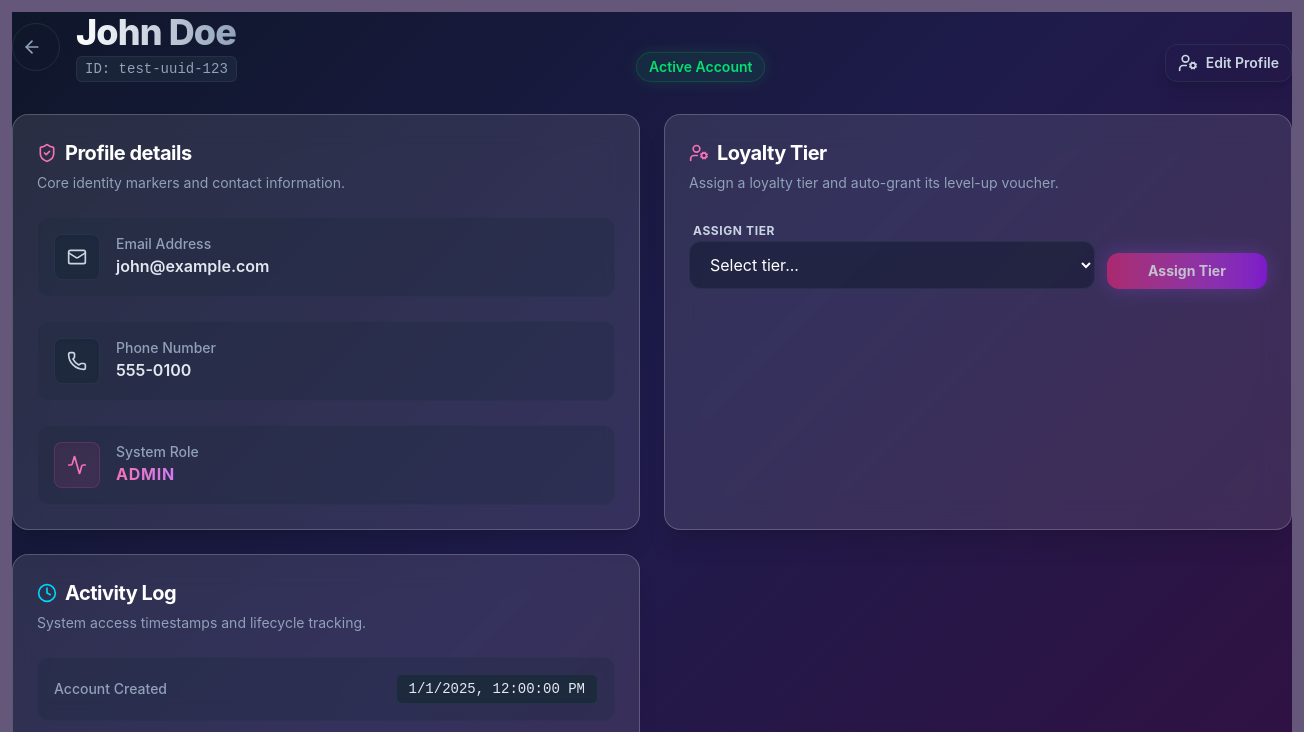
Test: UserDetail component tests › assigns a tier and shows the grant email-style feedback
The image size is (1304, 732).
Select "Gold" in the dropdown labelled "Assign Tier" at (892, 265), box [689,241,1095,289]
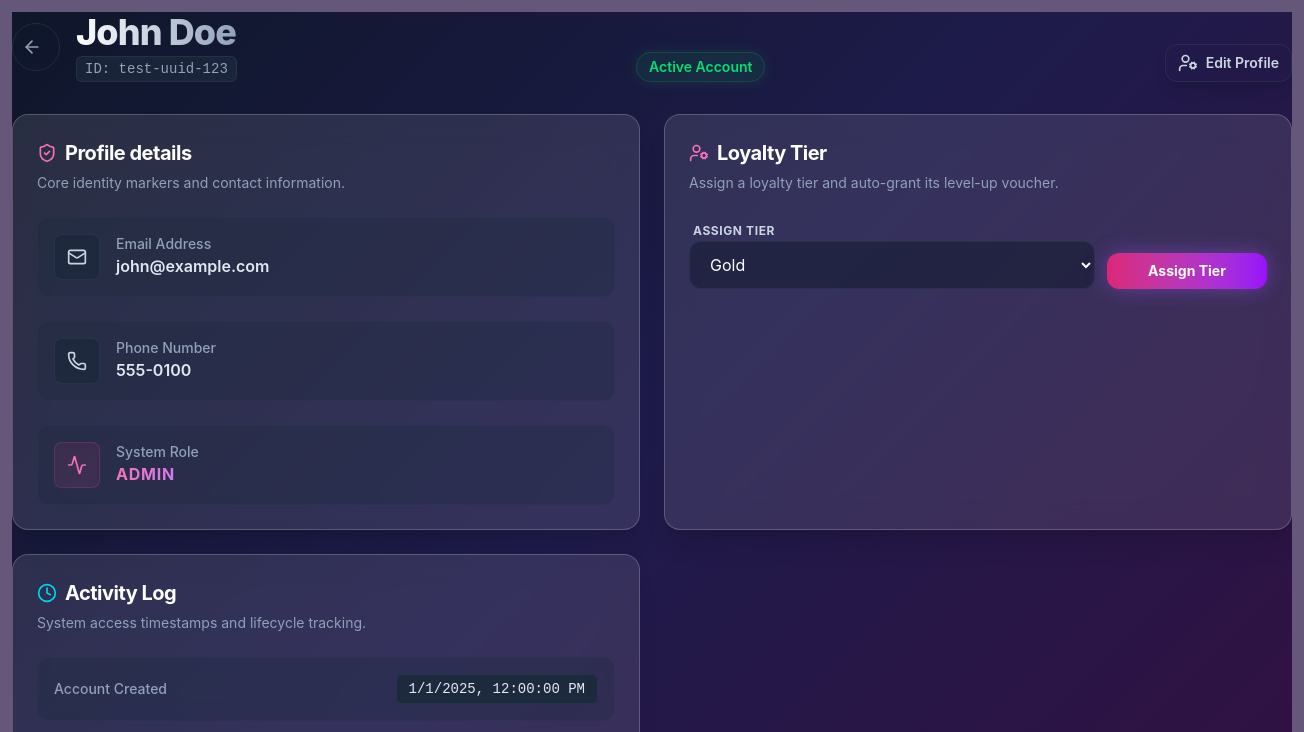
Click the button "Assign Tier" at (1187, 271), box [1107,253,1267,289]
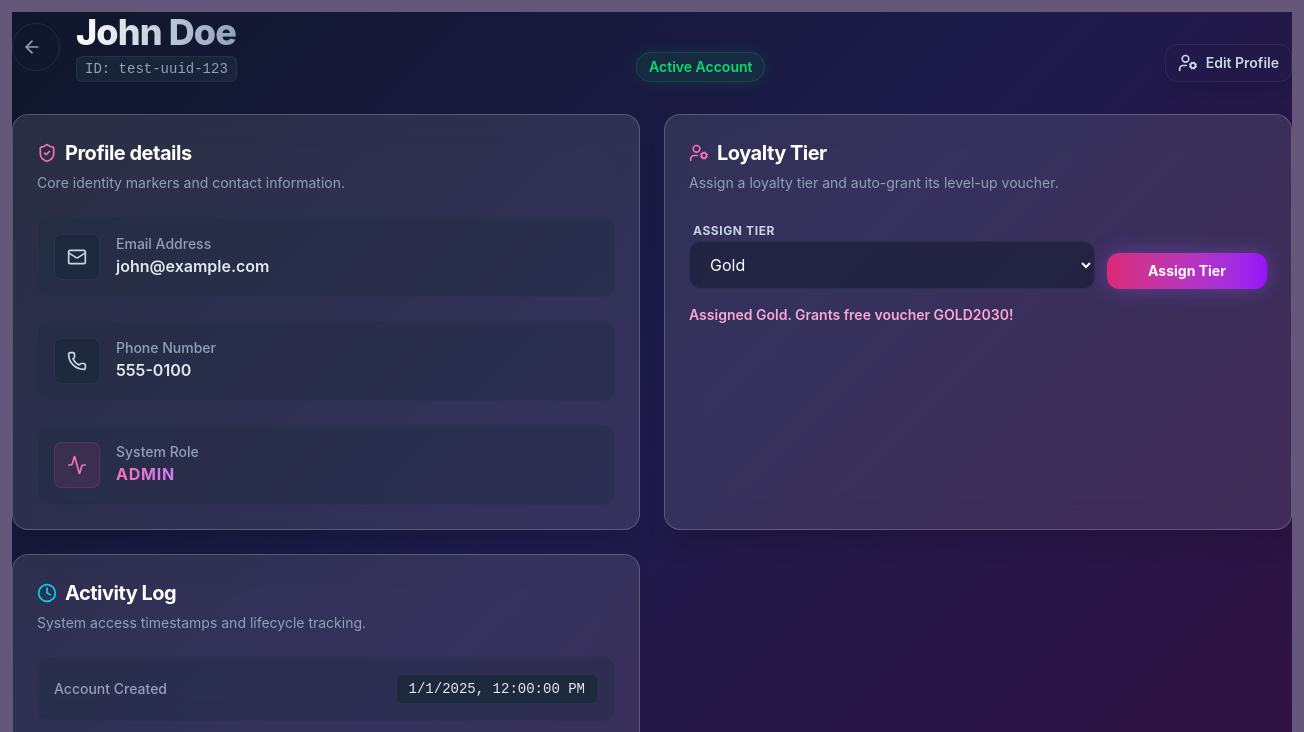
Now the text "Assigned Gold. Grants free voucher GOLD2030!" is shown, box [689,306,1014,323]
